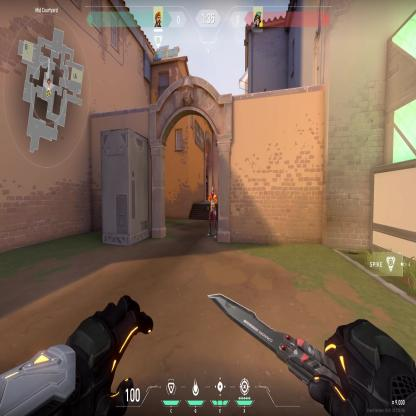enemy: (206, 186, 218, 238)
